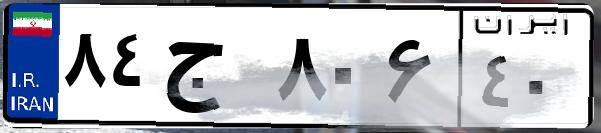0: (330, 28, 385, 110), (525, 38, 570, 115)
4: (475, 38, 525, 113), (110, 28, 158, 98)
6: (385, 28, 445, 110)
8: (270, 28, 330, 110), (57, 26, 110, 100)
ج: (158, 20, 270, 120)
